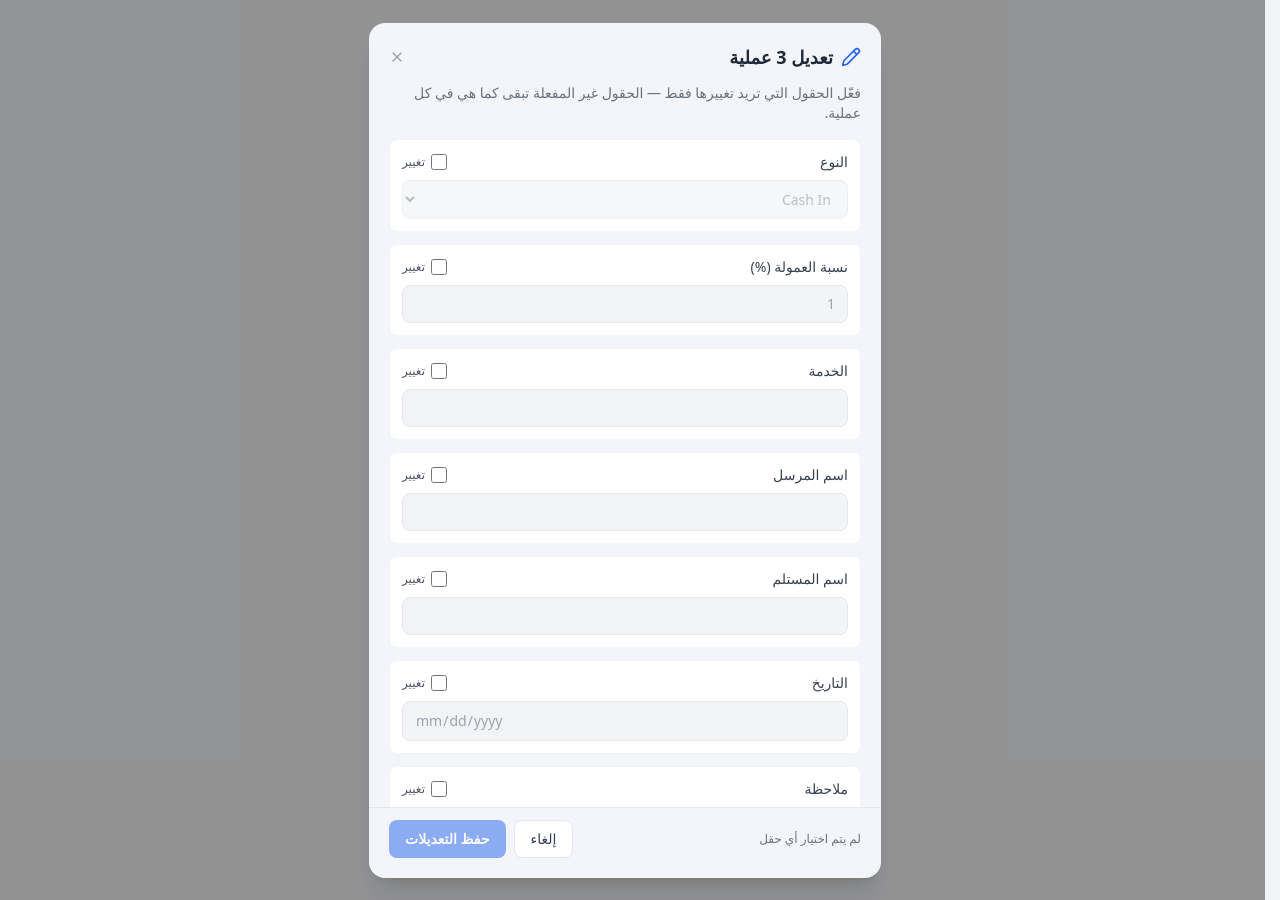
Test: BulkEditModal › shows the server error and stays open when saving fails
Click the checkbox labelled "تغيير" in the row of "الخدمة": (439, 370) [431,362,447,378]
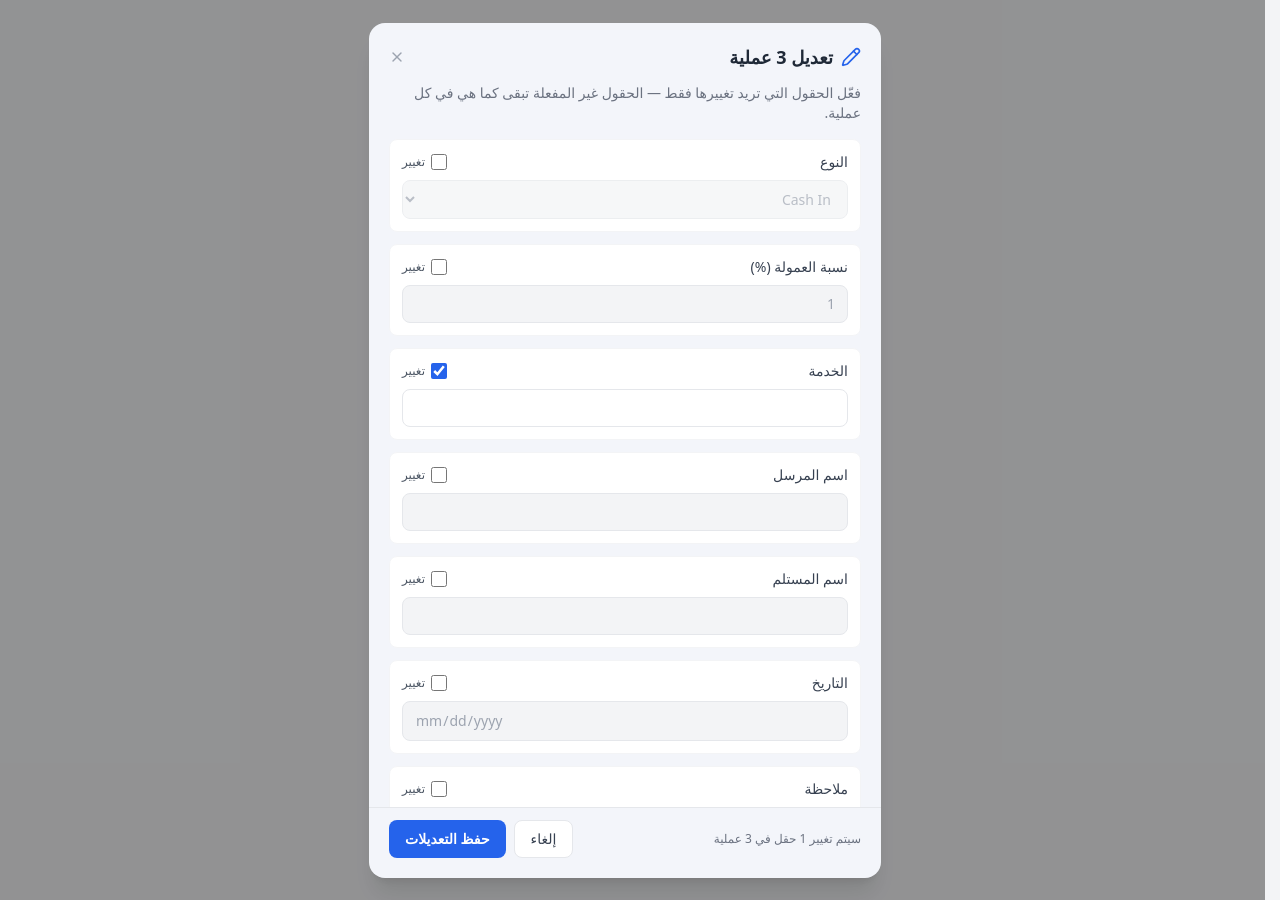
Click the button "حفظ التعديلات": (447, 838) [389,820,506,858]
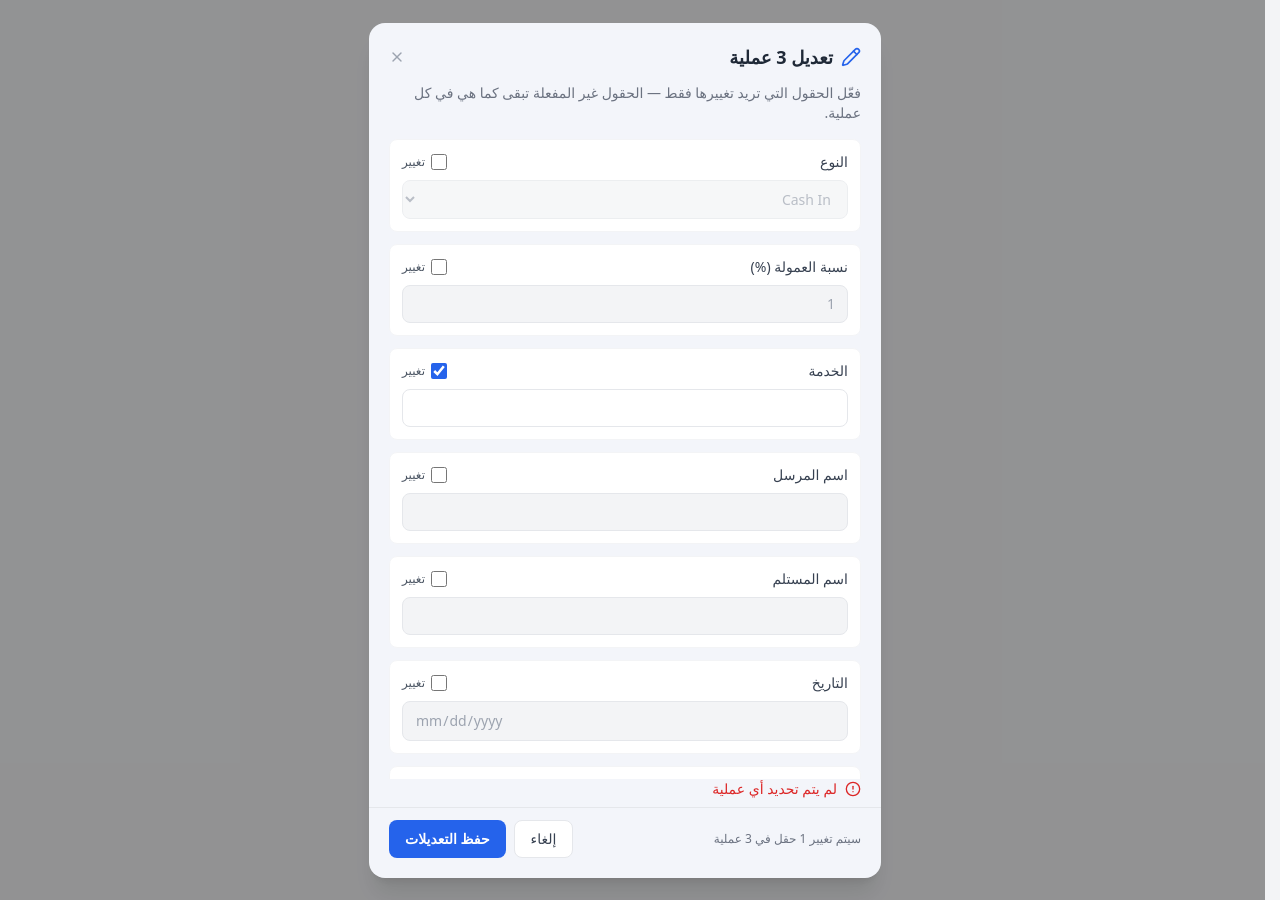
expect the button "حفظ التعديلات" is enabled: met, box [389,820,506,858]
expect the text "لم يتم تحديد أي عملية" is shown: met, box [712,778,837,798]
